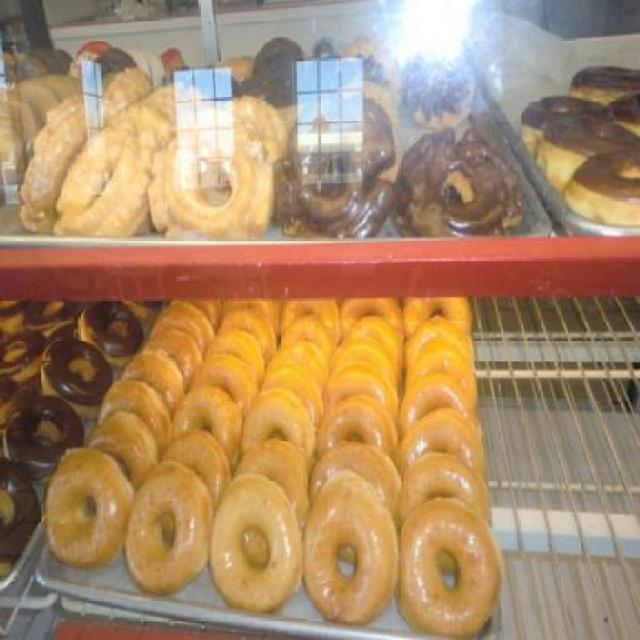Donuts: (2, 31, 640, 638)
